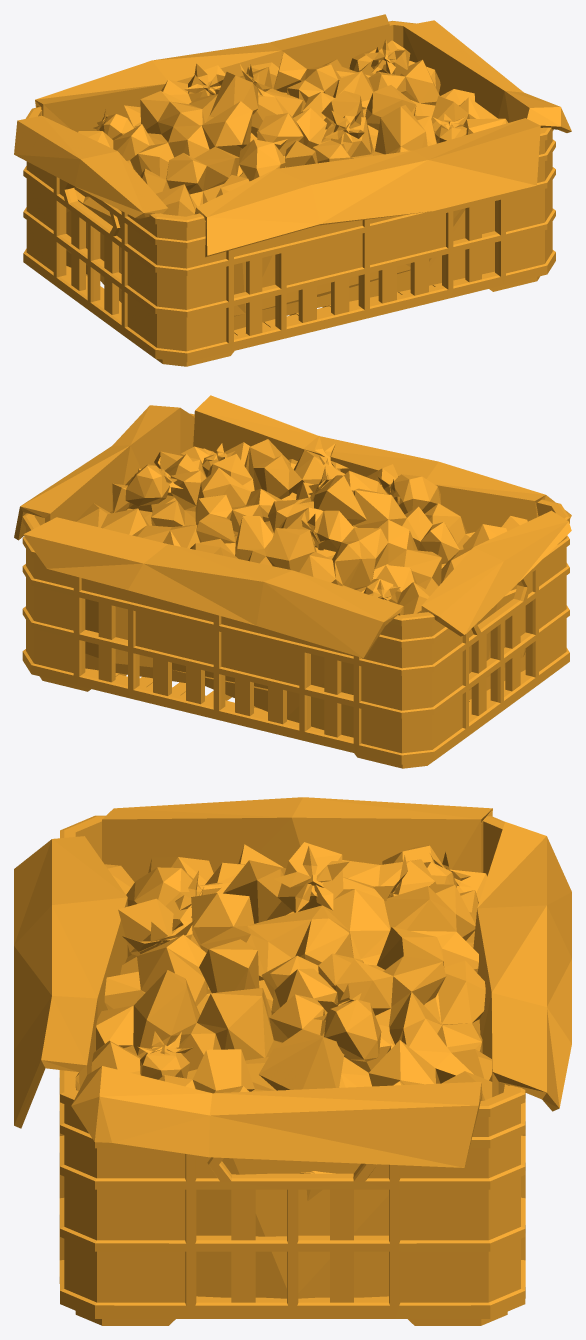
Rendered from SM_Crate_Plastic_Small_Paper_Strawberries.fbx.
3 views of the same model, one above another, from view 1: azimuth 30°, elevation 25°; view 2: azimuth 150°, elevation 25°; view 3: azimuth 270°, elevation 25° (orthographic). The views are drawn at different scales.
Parts seen in each view (by area): view 1: crate-plastic-small-paper-strawberries; view 2: crate-plastic-small-paper-strawberries; view 3: crate-plastic-small-paper-strawberries.
Boxes of the visible parts, x1,y1,x2,y2 form: crate-plastic-small-paper-strawberries: (14,14,571,366); crate-plastic-small-paper-strawberries: (14,395,571,768); crate-plastic-small-paper-strawberries: (14,797,571,1325).
Size of the model in its own units: 0.663 by 0.3058 by 0.4887.
